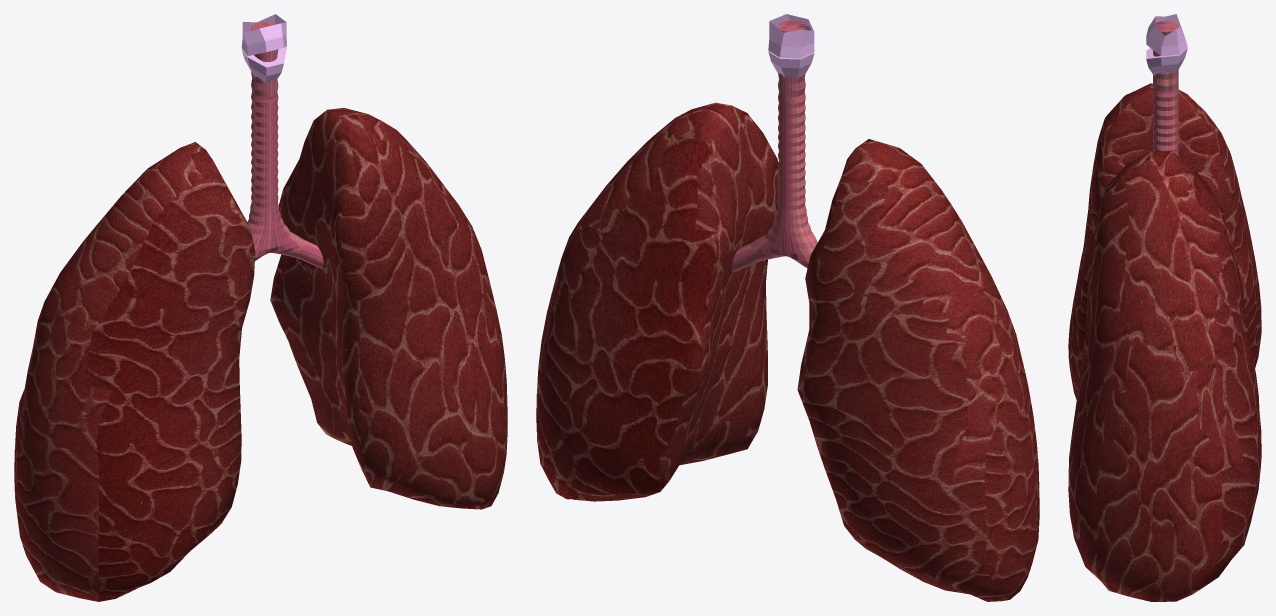
Rendered from LungsFull.fbx.
3 views of the same model, side by side, from view 1: azimuth 30°, elevation 25°; view 2: azimuth 150°, elevation 25°; view 3: azimuth 270°, elevation 25° (orthographic). The views are drawn at different scales.
Parts seen in each view (by area): view 1: LungL, LungR, MainBranch; view 2: LungL, LungR, MainBranch; view 3: LungR, LungL, MainBranch.
Part boxes in pixels (x1,y1,x2,y2): LungL: (14,142,255,601); LungR: (270,108,507,509); MainBranch: (241,14,323,268); LungL: (797,139,1039,601); LungR: (536,102,778,501); MainBranch: (731,14,817,272); LungR: (1068,151,1261,601); LungL: (1068,83,1261,399); MainBranch: (1146,14,1187,155).
Bounding box in the file's own units: 358 × 379 × 137.
3 materials, 3 textured.
